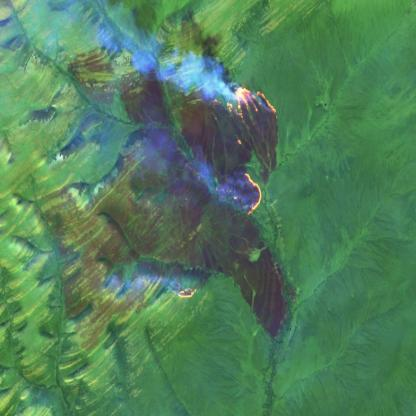fire: (211, 78, 283, 222), (174, 282, 198, 305)
